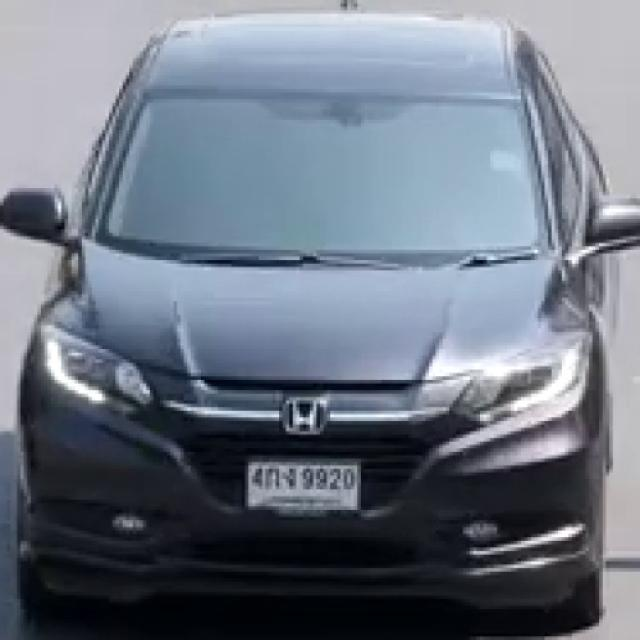plate: (247, 458, 361, 513)
